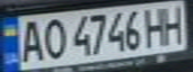4: (69, 12, 90, 57), (106, 8, 127, 53)
6: (124, 7, 145, 51)
7: (87, 10, 109, 55)
A: (15, 17, 45, 64)
H: (142, 4, 172, 47), (160, 2, 190, 45)
O: (39, 16, 69, 61)
